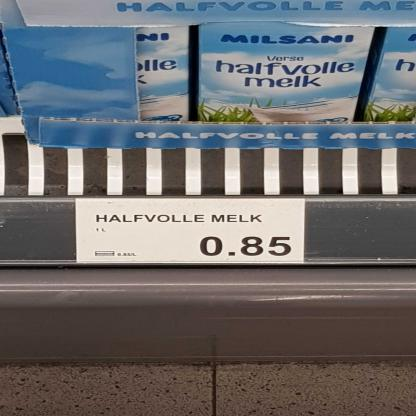prtg: (77, 199, 308, 265)
